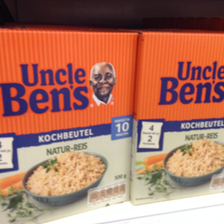rice: (1, 27, 140, 224), (132, 30, 224, 204)
